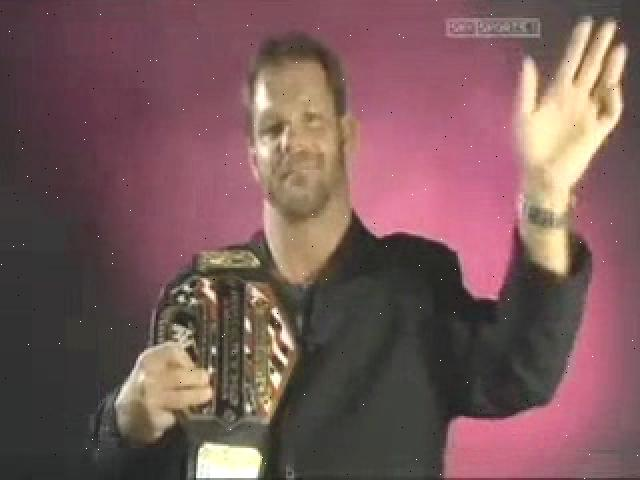L: (84, 23, 614, 478)
